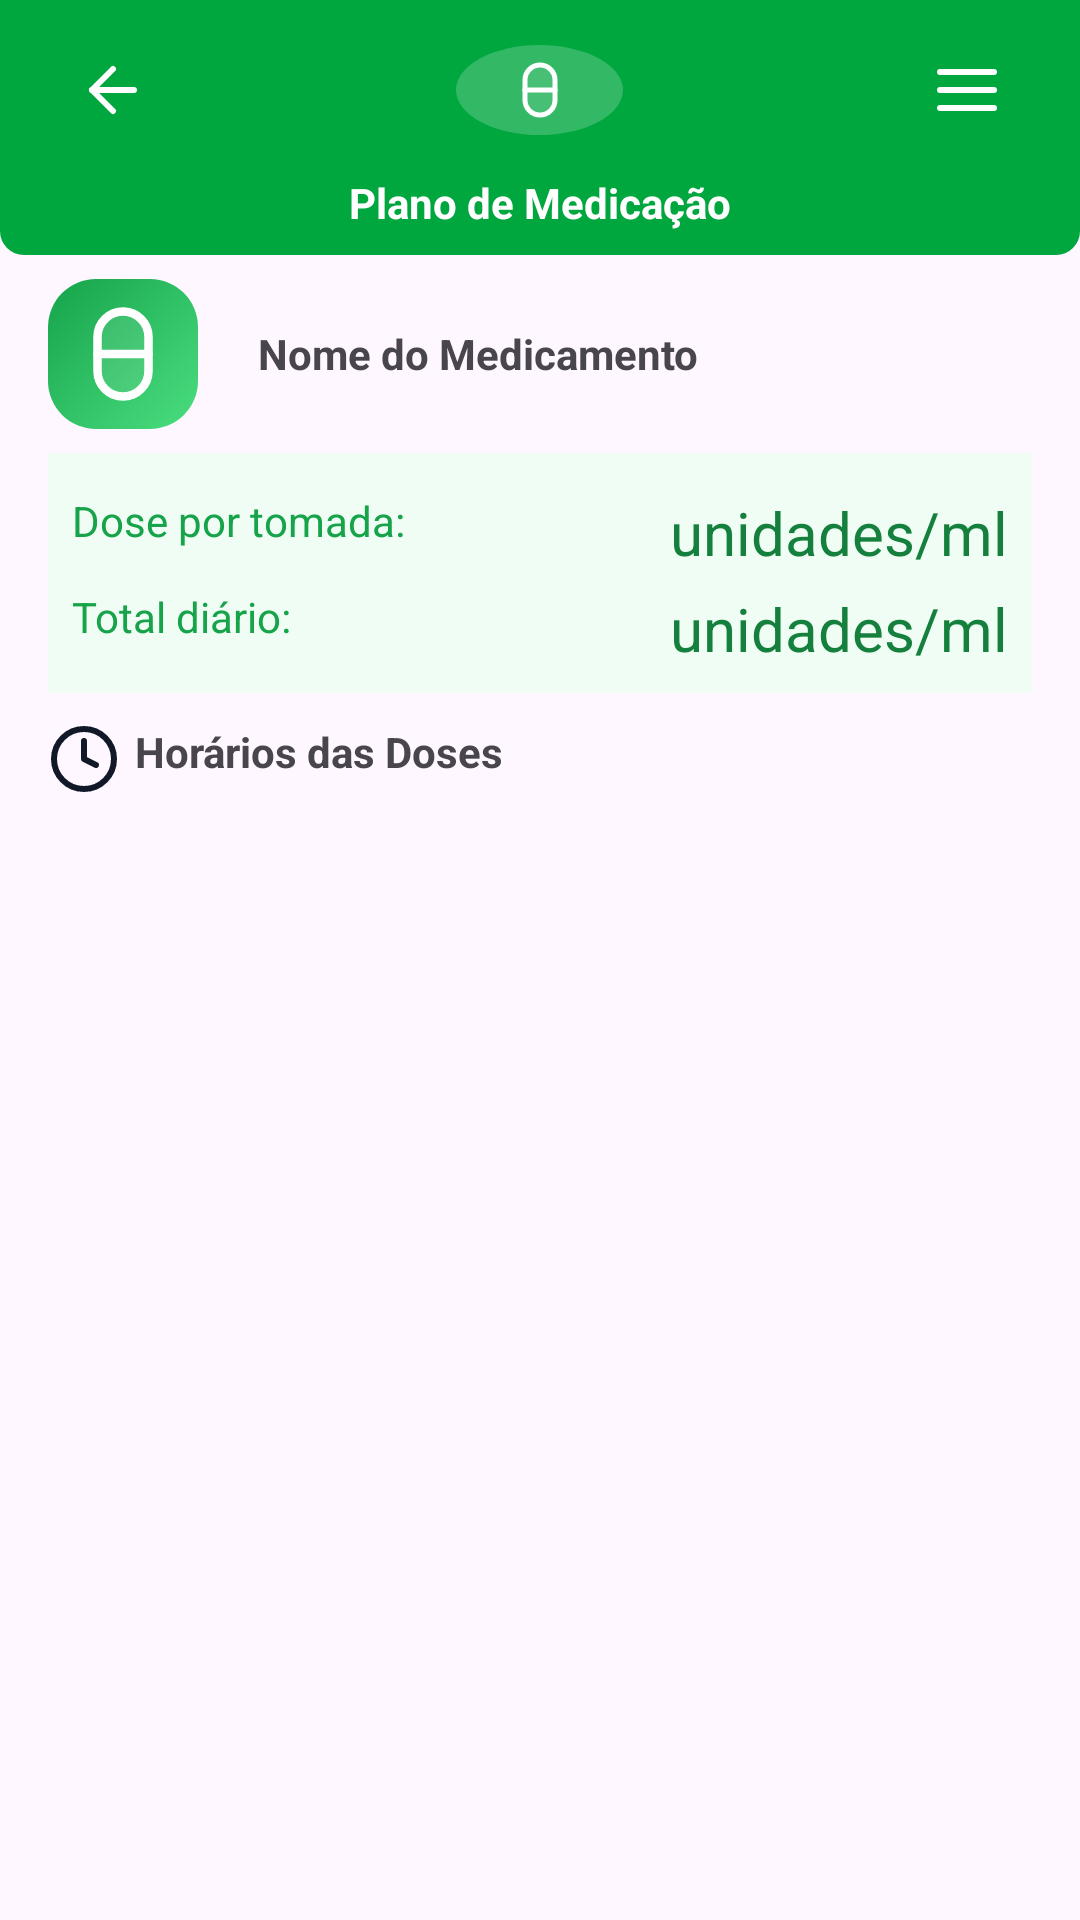

Screen size 1080x1920. Icon name, then its box in pixels as (x1, y1, x2, y2):
arrowleft: (89, 66, 137, 114)
clock: (51, 726, 117, 792)
menu: (937, 69, 997, 111)
pill: (456, 45, 623, 135), (48, 279, 198, 429)
